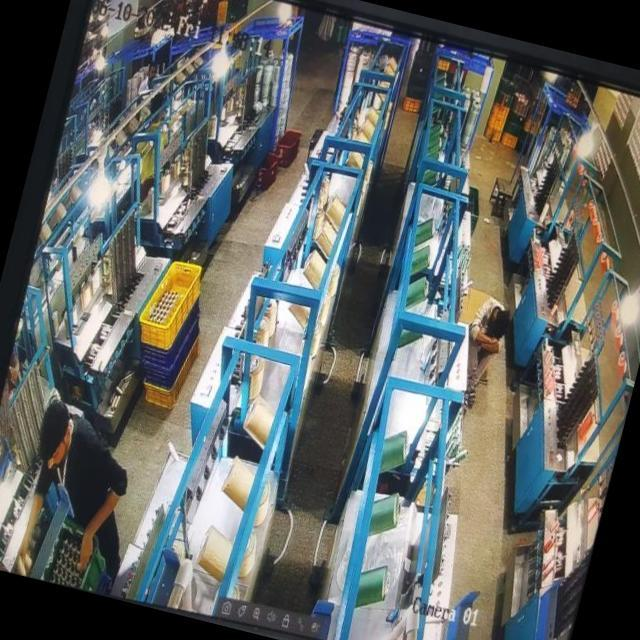person: (5, 392, 154, 586), (452, 291, 516, 414)
